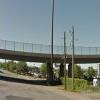Bridge: (6, 29, 88, 81)
